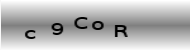9: (50, 22, 64, 36)
C: (73, 16, 88, 30)
R: (113, 23, 130, 38)
c: (24, 29, 37, 40)
o: (91, 20, 105, 30)
